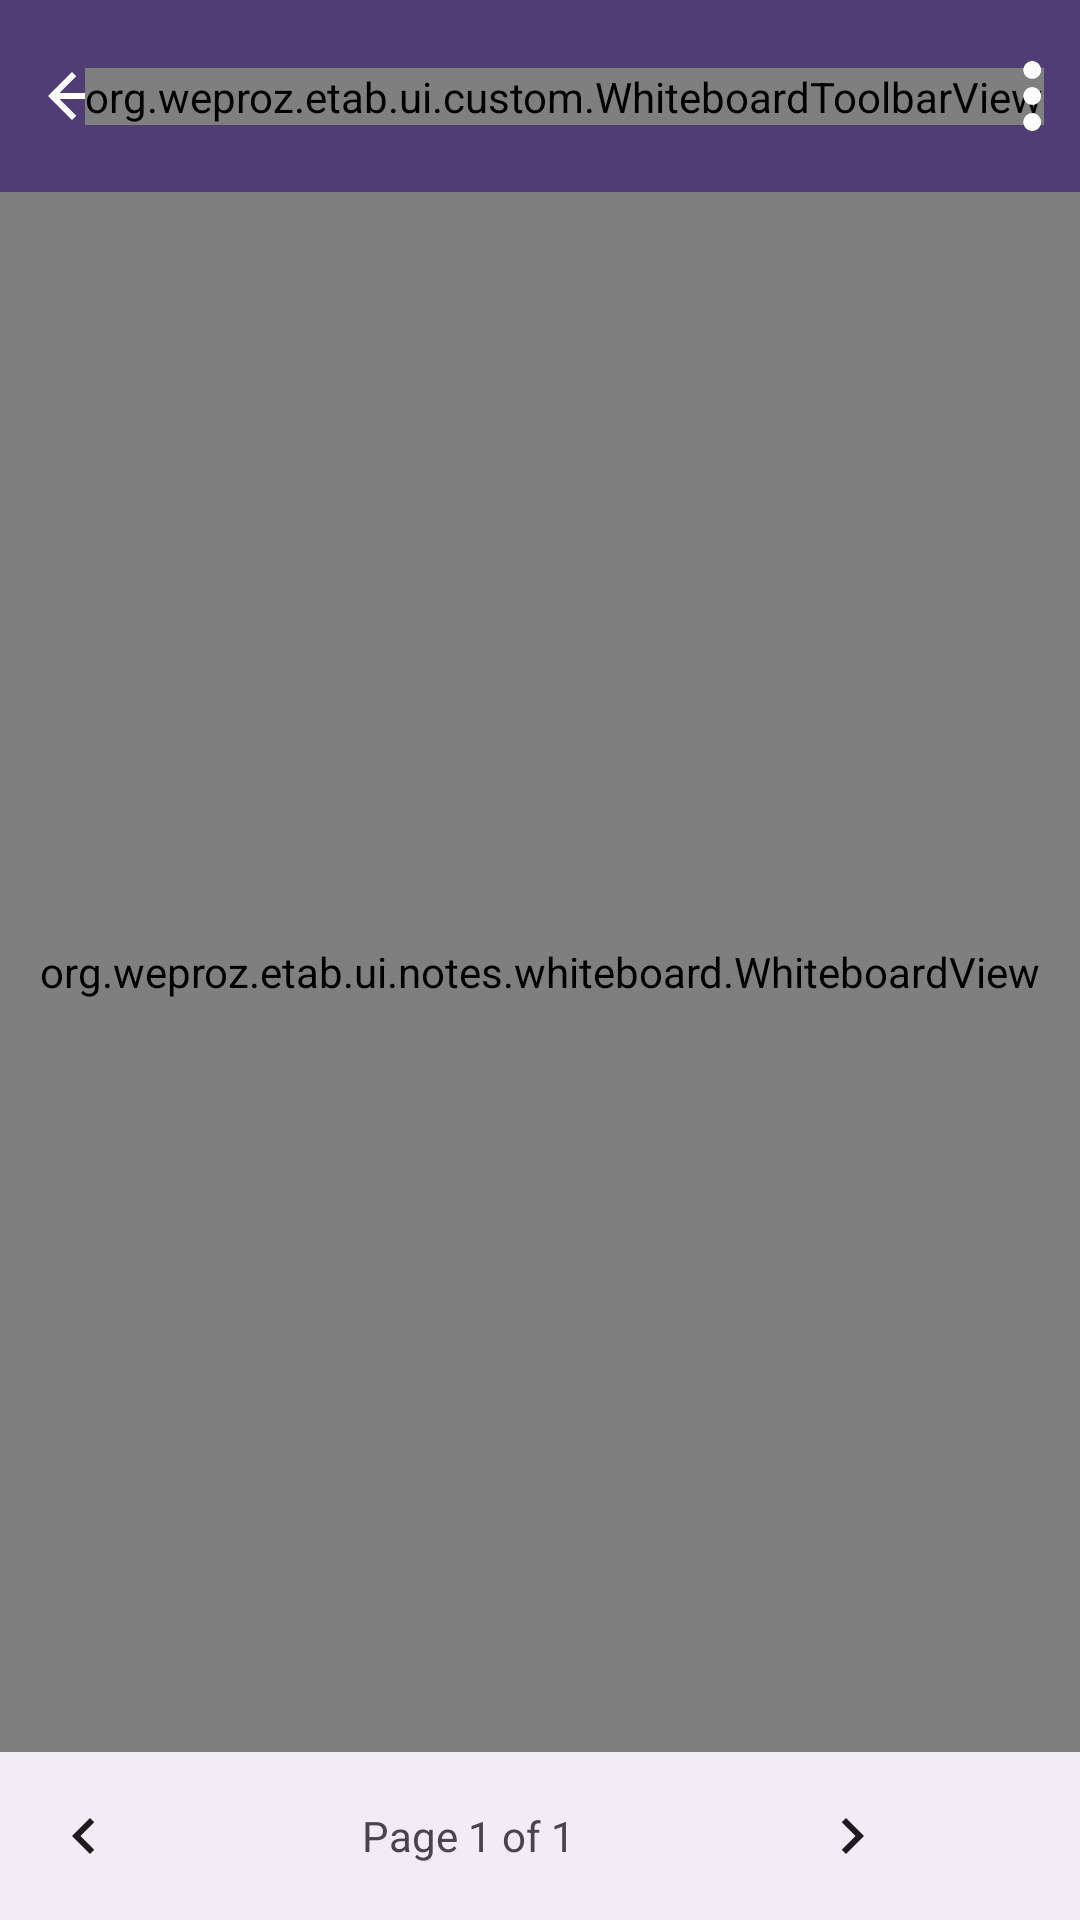

Icon click points for this 1080x1920 phone screenshot, format point (x, y):
Next page: point (853, 1836)
Previous page: point (83, 1836)
